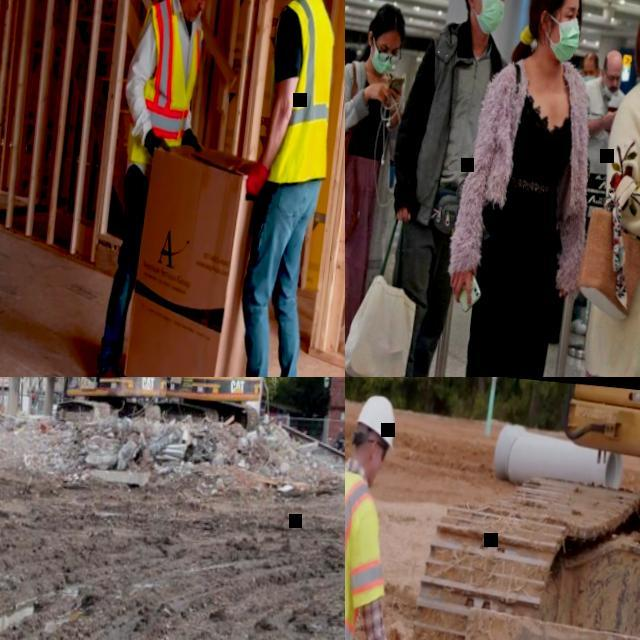helmet: (354, 392, 399, 450)
vest: (259, 0, 345, 182), (123, 0, 207, 167), (345, 472, 394, 640)
